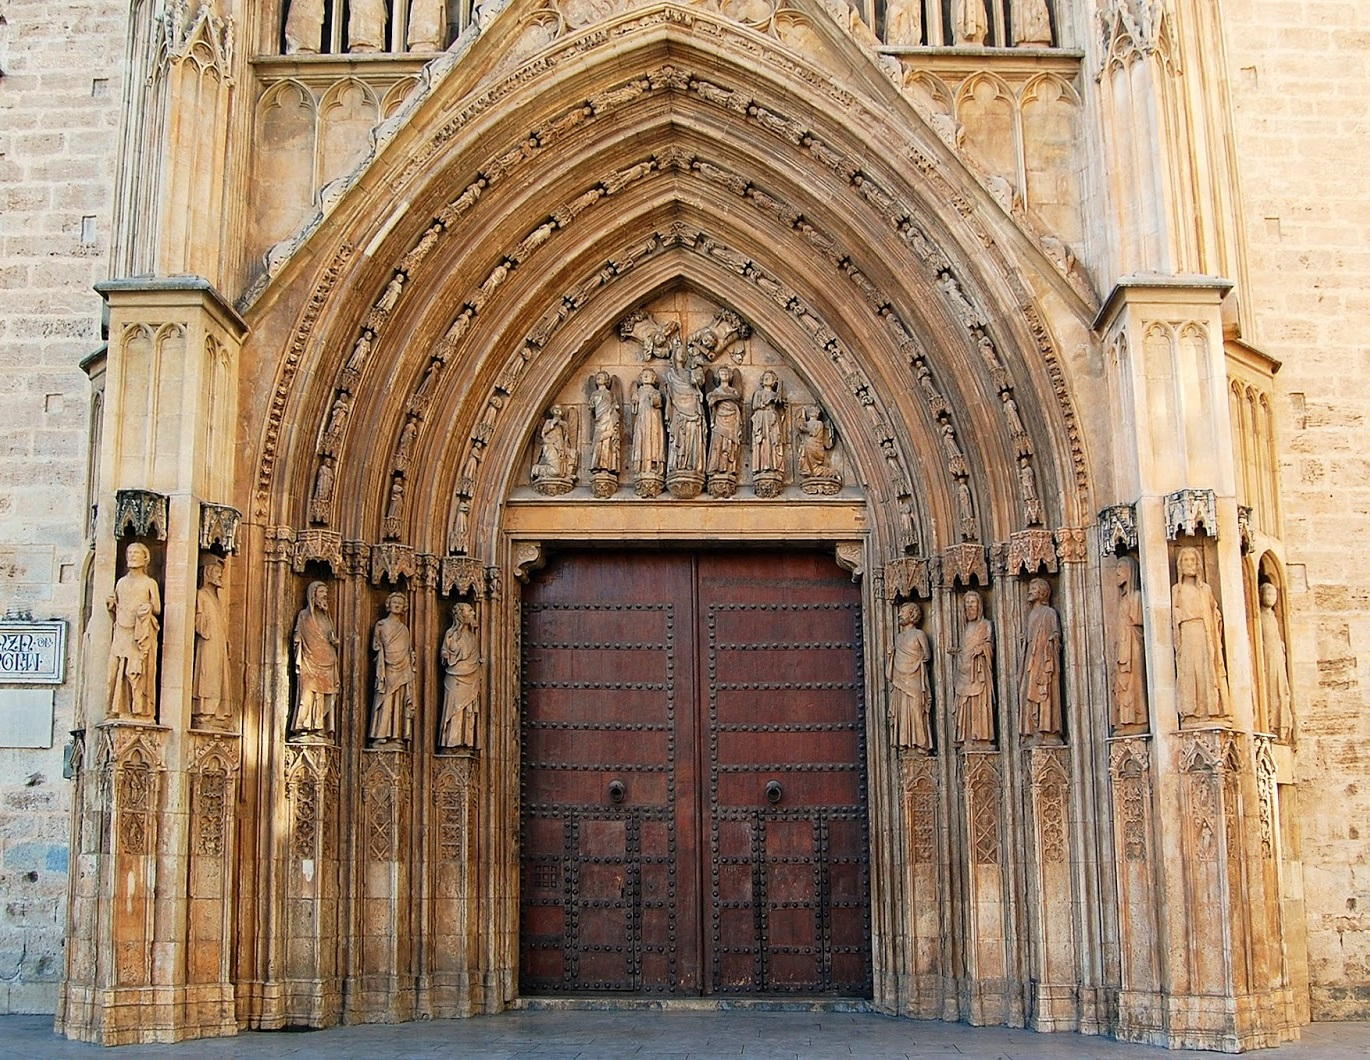arco-apuntado: (248, 1, 1089, 497)
